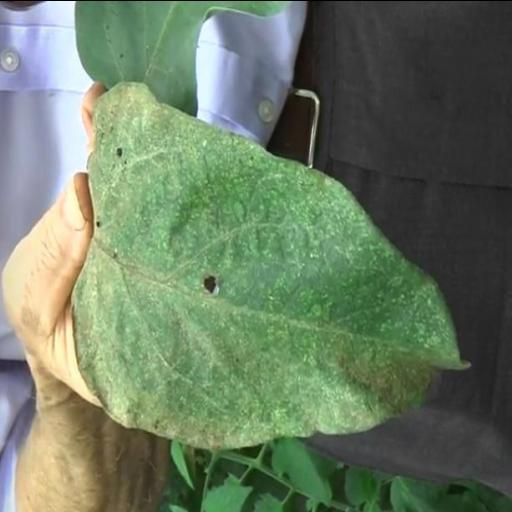Spider Mites: (71, 77, 473, 450)
